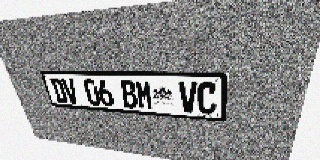0: (82, 79, 102, 106)
6: (96, 79, 115, 107)
B: (119, 80, 138, 109)
C: (198, 82, 217, 115)
D: (49, 78, 68, 103)
M: (135, 80, 154, 110)
V: (179, 81, 197, 113), (61, 78, 80, 104)
